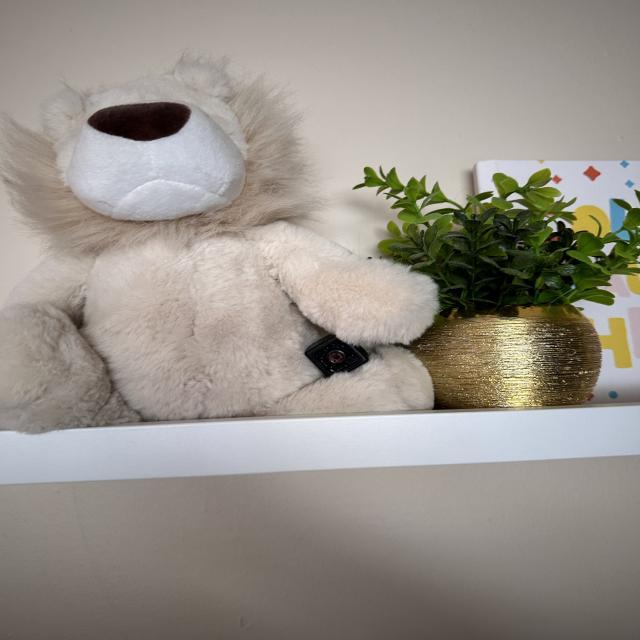hidden camera: (328, 351, 347, 364)
